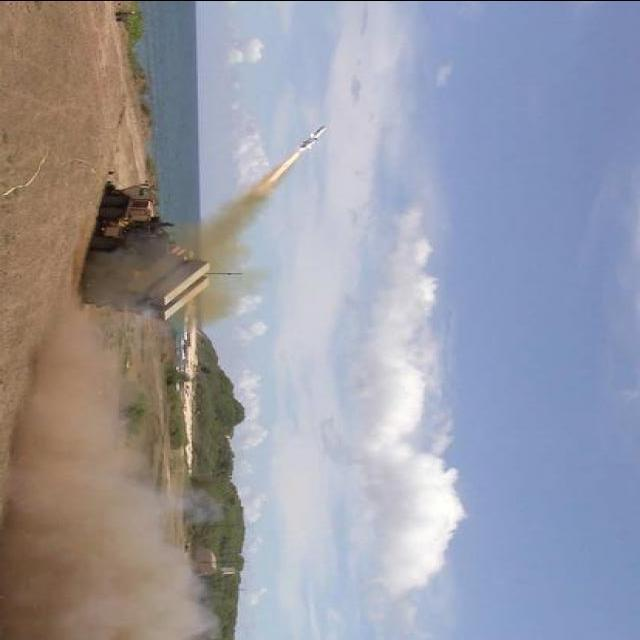missile: (298, 119, 328, 157)
